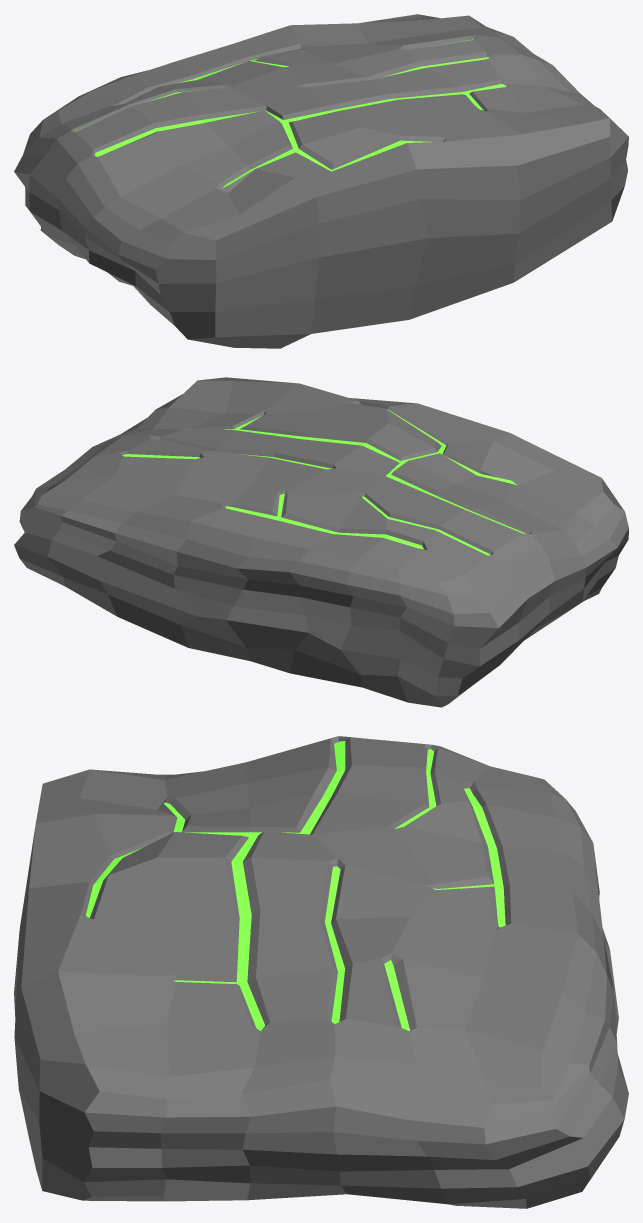
The model's file is OreVein_Wall.fbx.
3 renders of one model, top to bottom at view 1: azimuth 30°, elevation 25°; view 2: azimuth 150°, elevation 25°; view 3: azimuth 270°, elevation 25°, orthographic. The views are drawn at different scales.
Visible parts, largest first — view 1: OreVein_Wall; view 2: OreVein_Wall; view 3: OreVein_Wall.
Boxes of the visible parts, x1,y1,x2,y2 form: OreVein_Wall: [14, 14, 628, 348]; OreVein_Wall: [14, 377, 628, 707]; OreVein_Wall: [14, 736, 628, 1208].
Bounding box in the file's own units: 261 × 89.41 × 183.
